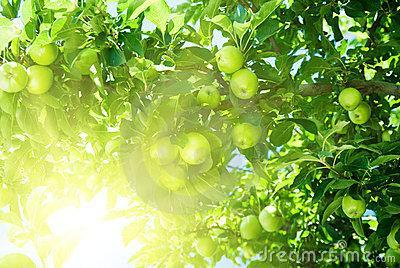apple: (229, 68, 259, 98), (1, 62, 29, 93), (25, 66, 54, 94), (215, 46, 244, 74), (28, 41, 59, 65), (258, 204, 283, 231), (196, 85, 220, 109), (343, 194, 366, 218), (340, 88, 362, 110), (349, 102, 371, 123)
